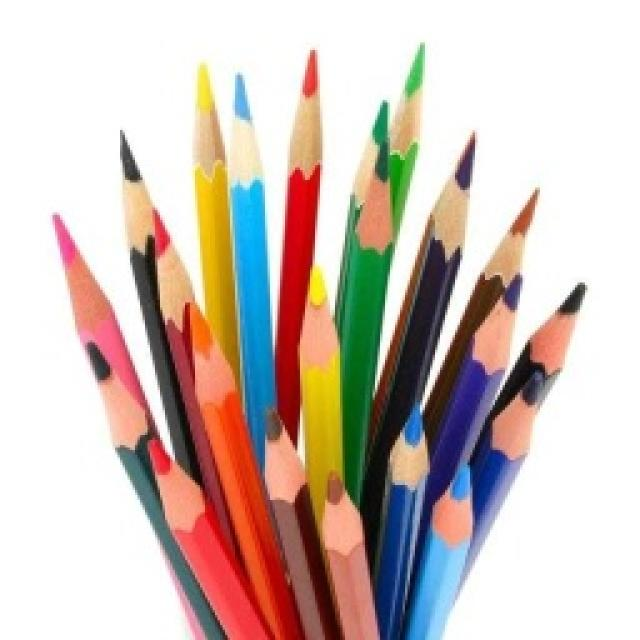pencil: (48, 38, 590, 638)
